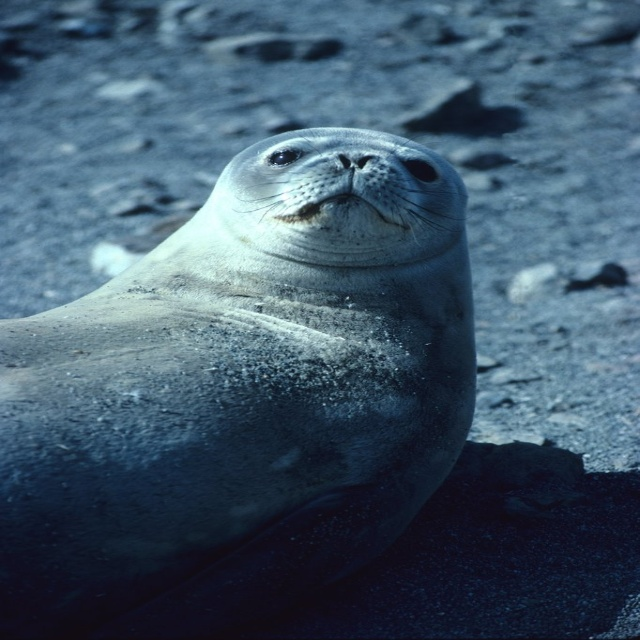Harbor seal: (0, 125, 477, 607)
